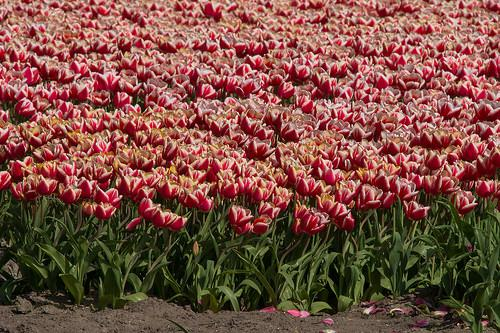tulip: (402, 197, 429, 221), (137, 197, 160, 224), (227, 203, 250, 228)
